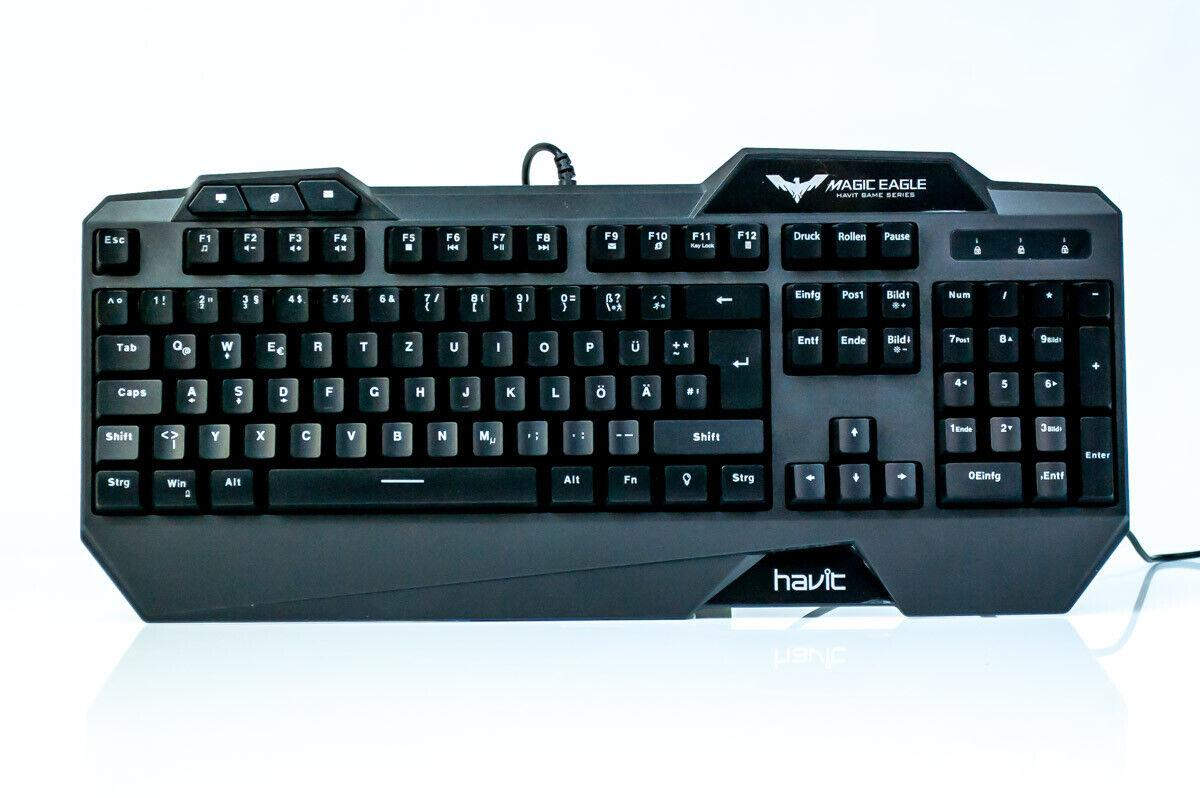0: (547, 282, 581, 320)
1: (138, 285, 173, 322)
2: (183, 284, 218, 322)
3: (229, 285, 264, 322)
4: (274, 284, 310, 321)
5: (320, 284, 355, 321)
6: (366, 283, 400, 321)
7: (411, 283, 445, 320)
8: (456, 283, 491, 321)
9: (502, 282, 536, 320)
a: (173, 375, 207, 412)
accent: (637, 280, 670, 318)
ae: (627, 370, 661, 408)
alt-left: (207, 465, 255, 505)
altgr-right: (547, 462, 593, 500)
b: (379, 418, 412, 454)
c: (287, 419, 321, 456)
caret: (94, 285, 127, 323)
comma: (514, 416, 547, 452)
d: (264, 374, 298, 411)
del: (681, 280, 762, 319)
e: (252, 329, 287, 367)
enter: (704, 325, 762, 409)
f: (311, 374, 343, 409)
g: (355, 373, 389, 410)
h: (401, 373, 435, 409)
hash: (671, 370, 706, 408)
i: (479, 327, 512, 364)
j: (447, 372, 480, 409)
k: (491, 371, 525, 409)
keyboard: (77, 196, 1127, 529)
l: (536, 371, 569, 409)
less: (150, 421, 184, 457)
m: (469, 417, 503, 454)
minus: (605, 416, 638, 452)
n: (424, 418, 458, 454)
o: (524, 327, 558, 364)
oe: (581, 371, 615, 409)
p: (570, 326, 603, 364)
plus: (660, 325, 694, 363)
point: (560, 416, 593, 452)
q: (161, 329, 196, 367)
r: (298, 328, 332, 366)
s: (219, 375, 252, 411)
shift-left: (94, 421, 139, 459)
shift-lock: (94, 375, 163, 413)
shift-right: (650, 415, 763, 453)
space: (262, 464, 538, 505)
ss: (593, 283, 627, 320)
strg-left: (92, 466, 141, 508)
strg-right: (717, 461, 766, 502)
t: (344, 328, 377, 365)
tab: (94, 331, 151, 369)
u: (435, 328, 468, 365)
ue: (615, 326, 648, 364)
v: (332, 419, 366, 455)
w: (207, 329, 241, 367)
x: (242, 420, 275, 456)
y: (196, 421, 229, 457)
z: (389, 328, 423, 365)
